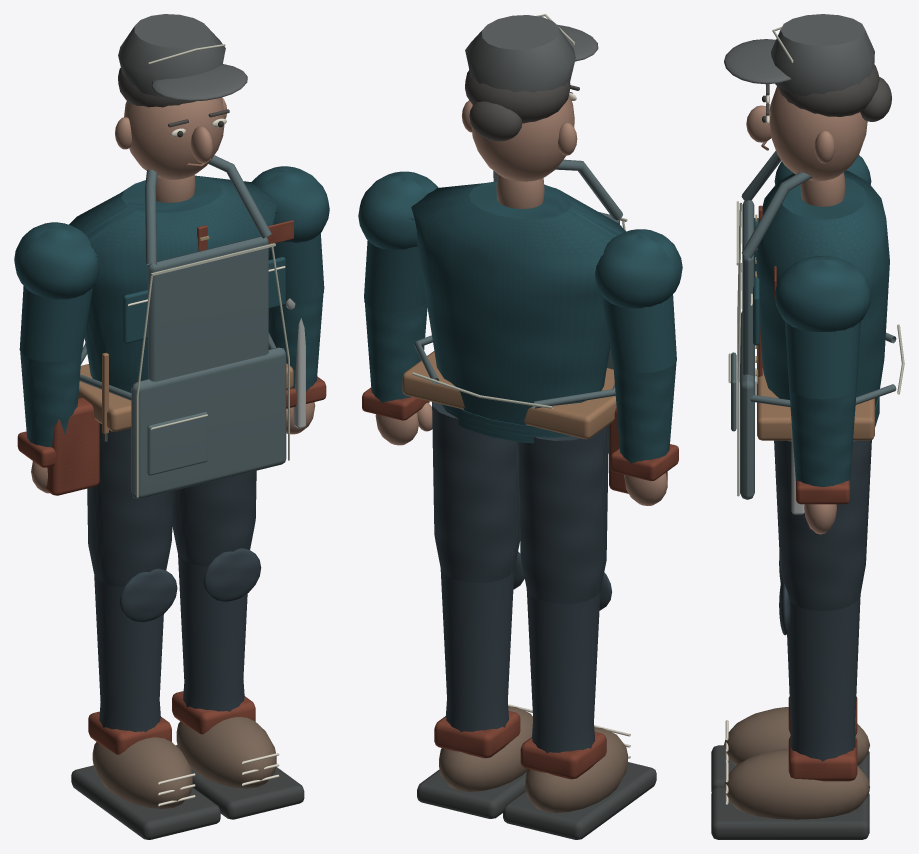
File: A085_repair_mechanic.glb
3 views of the same model, side by side, from view 1: azimuth 30°, elevation 25°; view 2: azimuth 150°, elevation 25°; view 3: azimuth 270°, elevation 25° (orthographic). The views are drawn at different scales.
Parts seen in each view (by area): view 1: HipsPivot.001 SL mechanic oil-dark canvas apron, HipsPivot.001 A085 mechanic petrol work shirt, LeftKneePivot.001 A085 mechanic grey work trouser, RightKneePivot.001 A085 mechanic grey work trouser, LeftShoulderPivot.001 A085 mechanic petrol work shirt, LeftHipPivot.001 A085 mechanic grey work trouser, HipsPivot.001 SL mechanic charcoal cap, HipsPivot.001 SL mechanic warm brown skin, RightHipPivot.001 A085 mechanic grey work trouser, RightShoulderPivot.001 A085 mechanic petrol work shirt, LeftKneePivot.001 SL mechanic aged brown leather, RightKneePivot.001 SL mechanic aged brown leather (+12 smaller); view 2: HipsPivot.001 A085 mechanic petrol work shirt, LeftHipPivot.001 A085 mechanic grey work trouser, RightHipPivot.001 A085 mechanic grey work trouser, LeftKneePivot.001 A085 mechanic grey work trouser, RightKneePivot.001 A085 mechanic grey work trouser, LeftShoulderPivot.001 A085 mechanic petrol work shirt, RightShoulderPivot.001 A085 mechanic petrol work shirt, HipsPivot.001 SL mechanic charcoal cap, HipsPivot.001 SL mechanic warm brown skin, LeftElbowPivot.001 A085 mechanic petrol work shirt, HipsPivot.001 SL mechanic oiled timber tool handles, RightElbowPivot.001 A085 mechanic petrol work shirt (+14 smaller); view 3: HipsPivot.001 A085 mechanic petrol work shirt, RightShoulderPivot.001 A085 mechanic petrol work shirt, RightKneePivot.001 A085 mechanic grey work trouser, RightHipPivot.001 A085 mechanic grey work trouser, HipsPivot.001 SL mechanic charcoal cap, HipsPivot.001 SL mechanic warm brown skin, HipsPivot.001 SL mechanic oil-dark canvas apron, RightKneePivot.001 SL mechanic aged brown leather, RightElbowPivot.001 A085 mechanic petrol work shirt, RightKneePivot.001 SL mechanic rubber soles, HipsPivot.001 SL mechanic dark curly hair, LeftKneePivot.001 SL mechanic aged brown leather (+8 smaller).
Part boxes in pixels (x1,y1,x2,y2): HipsPivot.001 SL mechanic oil-dark canvas apron: (79, 155, 286, 498); HipsPivot.001 A085 mechanic petrol work shirt: (69, 175, 285, 392); LeftKneePivot.001 A085 mechanic grey work trouser: (94, 568, 177, 731); RightKneePivot.001 A085 mechanic grey work trouser: (178, 548, 261, 711); LeftShoulderPivot.001 A085 mechanic petrol work shirt: (14, 222, 99, 362); LeftHipPivot.001 A085 mechanic grey work trouser: (87, 423, 172, 586); HipsPivot.001 SL mechanic charcoal cap: (118, 14, 247, 101); HipsPivot.001 SL mechanic warm brown skin: (115, 97, 226, 202); RightHipPivot.001 A085 mechanic grey work trouser: (172, 470, 256, 566); RightShoulderPivot.001 A085 mechanic petrol work shirt: (252, 166, 329, 303); LeftKneePivot.001 SL mechanic aged brown leather: (92, 737, 192, 808); RightKneePivot.001 SL mechanic aged brown leather: (176, 717, 276, 788); HipsPivot.001 A085 mechanic petrol work shirt: (411, 181, 625, 443); LeftHipPivot.001 A085 mechanic grey work trouser: (518, 425, 608, 603); RightHipPivot.001 A085 mechanic grey work trouser: (432, 402, 520, 582); LeftKneePivot.001 A085 mechanic grey work trouser: (526, 572, 611, 753); RightKneePivot.001 A085 mechanic grey work trouser: (440, 551, 524, 731); LeftShoulderPivot.001 A085 mechanic petrol work shirt: (595, 229, 682, 372); RightShoulderPivot.001 A085 mechanic petrol work shirt: (358, 171, 438, 312); HipsPivot.001 SL mechanic charcoal cap: (465, 15, 598, 92); HipsPivot.001 SL mechanic warm brown skin: (462, 94, 577, 208); LeftElbowPivot.001 A085 mechanic petrol work shirt: (613, 361, 676, 463); HipsPivot.001 SL mechanic oiled timber tool handles: (402, 351, 616, 439); RightElbowPivot.001 A085 mechanic petrol work shirt: (365, 302, 427, 402); HipsPivot.001 A085 mechanic petrol work shirt: (753, 170, 889, 426); RightShoulderPivot.001 A085 mechanic petrol work shirt: (774, 256, 871, 399); RightKneePivot.001 A085 mechanic grey work trouser: (779, 578, 860, 761); RightHipPivot.001 A085 mechanic grey work trouser: (774, 440, 871, 610); HipsPivot.001 SL mechanic charcoal cap: (724, 14, 874, 96); HipsPivot.001 SL mechanic warm brown skin: (746, 86, 867, 206); HipsPivot.001 SL mechanic oil-dark canvas apron: (731, 151, 896, 499); RightKneePivot.001 SL mechanic aged brown leather: (724, 749, 869, 819); RightElbowPivot.001 A085 mechanic petrol work shirt: (789, 386, 856, 486); RightKneePivot.001 SL mechanic rubber soles: (711, 787, 869, 839); HipsPivot.001 SL mechanic dark curly hair: (766, 64, 891, 121); LeftKneePivot.001 SL mechanic aged brown leather: (724, 707, 869, 765).
Bounding box in the file's own units: 0.756 × 1.8 × 0.4095.
Materials: 17 (3 with a texture image).
